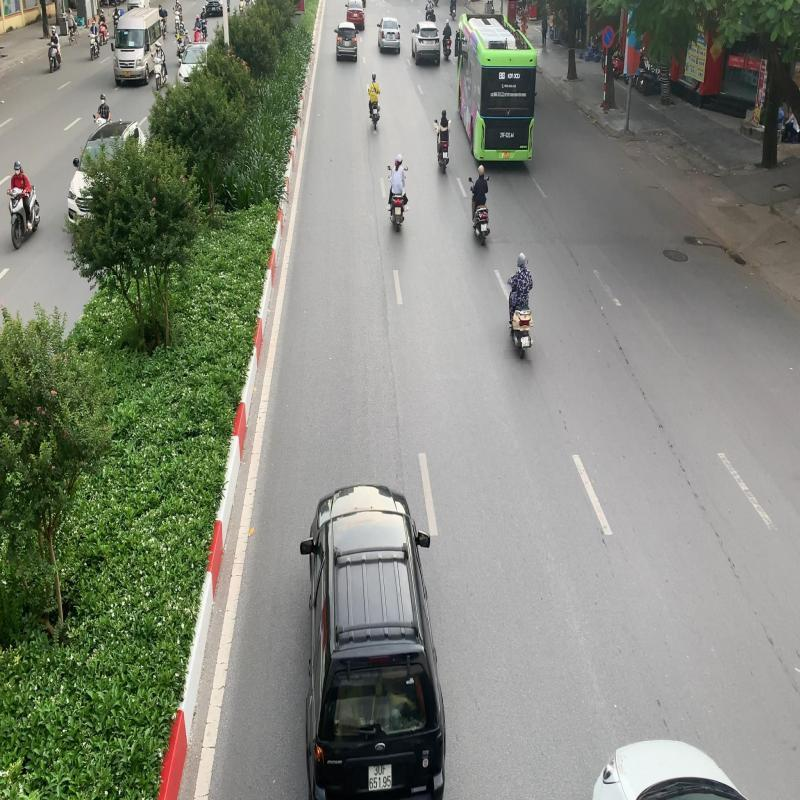helmet: (517, 252, 528, 267)
licenseplate: (521, 335, 531, 348)
motorcyclist: (504, 253, 536, 360)
